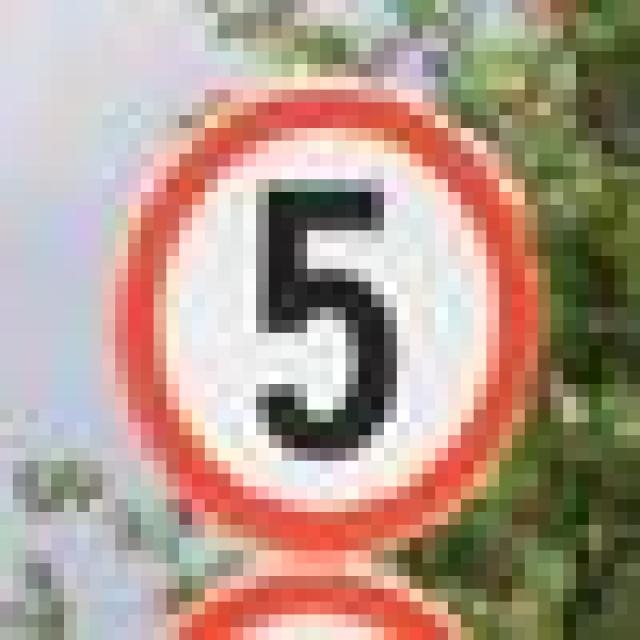SPEED_LIMIT_5: (99, 70, 564, 560)
